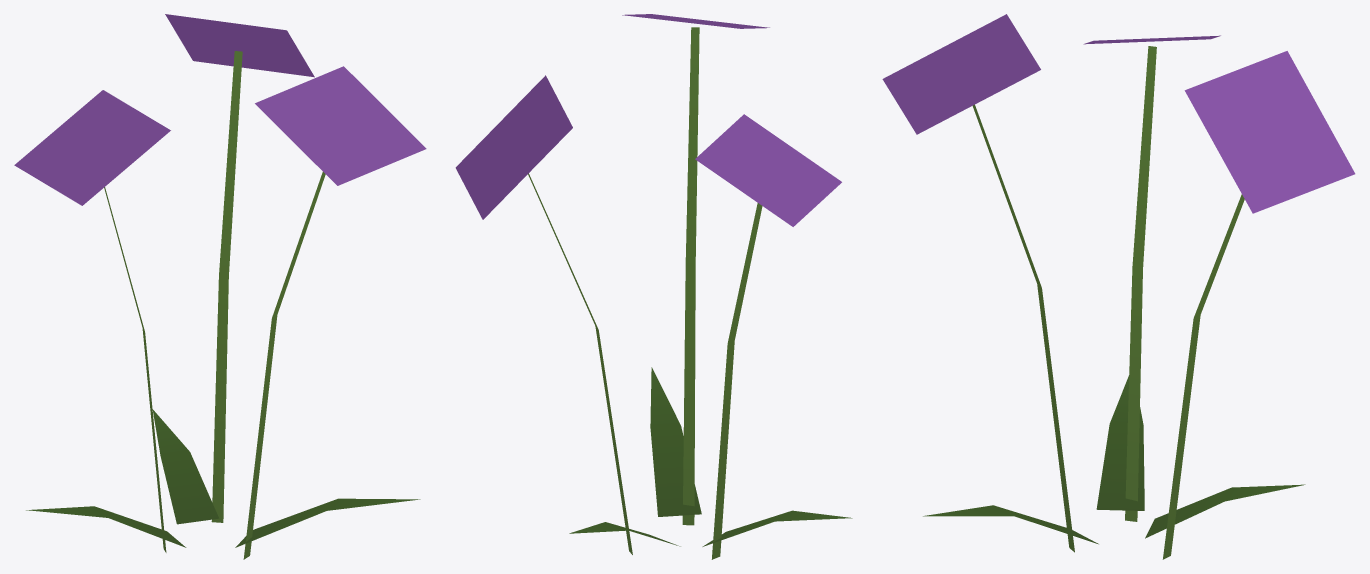
The model's file is flower.meadow.purple.glb.
3 views of the same model, side by side, from view 1: azimuth 30°, elevation 25°; view 2: azimuth 150°, elevation 25°; view 3: azimuth 270°, elevation 25° (orthographic). The views are drawn at different scales.
Parts seen in each view (by area): view 1: flower_meadow_purple; view 2: flower_meadow_purple; view 3: flower_meadow_purple.
Part boxes in pixels (<box>): flower_meadow_purple: <box>14,14,426,559</box>; flower_meadow_purple: <box>455,14,852,559</box>; flower_meadow_purple: <box>882,14,1355,559</box>.
Bounding box in the file's own units: 0.2682 × 0.3584 × 0.293.
